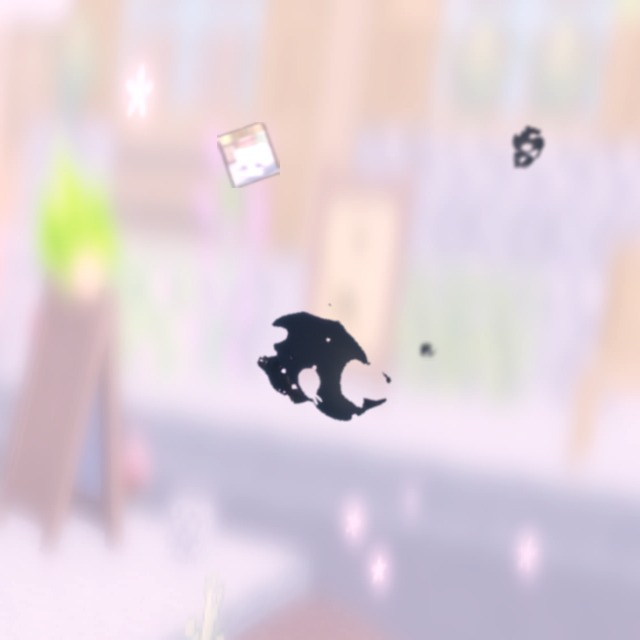urso_branco: (217, 122, 280, 188)
urso_preto: (217, 262, 429, 472), (502, 123, 549, 177), (415, 340, 440, 361)
